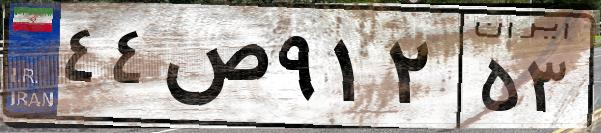1: (330, 28, 385, 110)
2: (385, 28, 445, 110)
3: (525, 38, 570, 115)
4: (57, 26, 110, 100), (110, 28, 158, 98)
5: (475, 38, 525, 113)
9: (270, 28, 330, 110)
ص: (158, 20, 270, 120)
